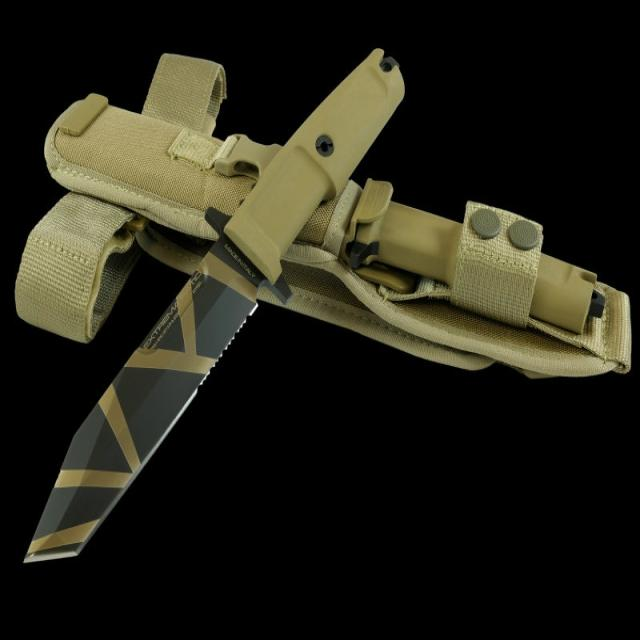knife: (21, 39, 410, 568)
